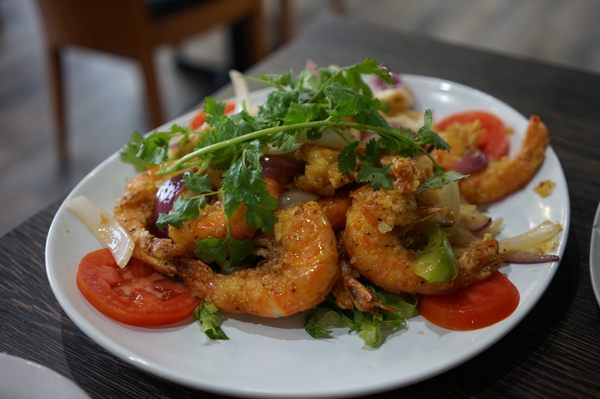curry: (12, 11, 600, 396)
